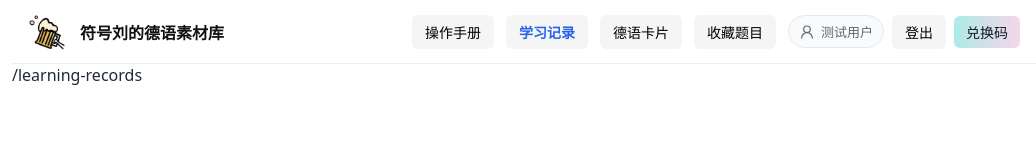
Scenario: exam preparation scoped navigation › keeps the global favorites entry unscoped
What coordinates should you click on to do the following:
click the button "收藏题目"
I would click on:
 (735, 32)
Its box is [694,14,776,48].
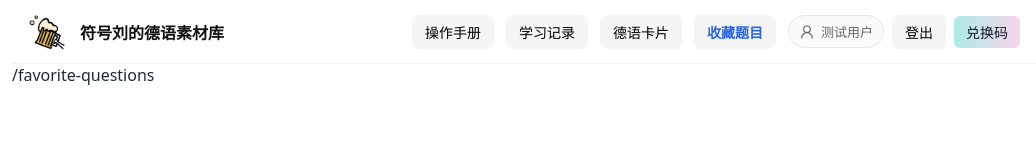
Check: the text with test id "location" does not show "exam_type", box [12,64,154,86]
Check: the text with test id "location" reads "/favorite-questions", box [12,64,154,86]
